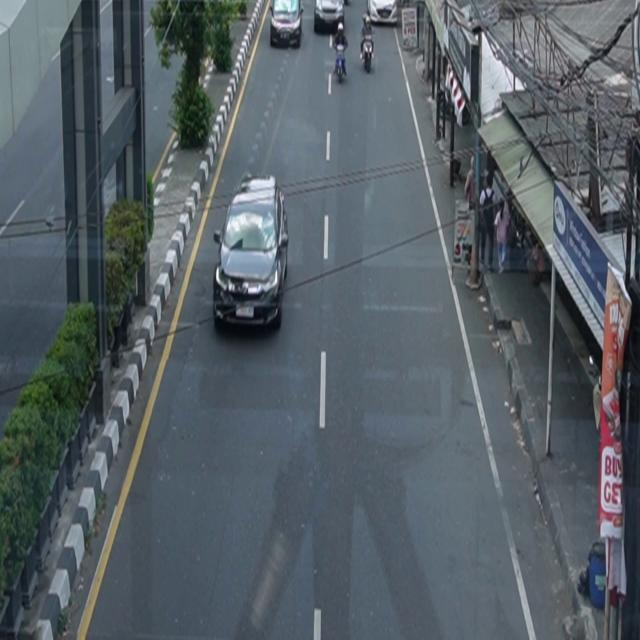car: (213, 172, 290, 332), (270, 1, 305, 49), (314, 1, 346, 34), (367, 1, 398, 26)
